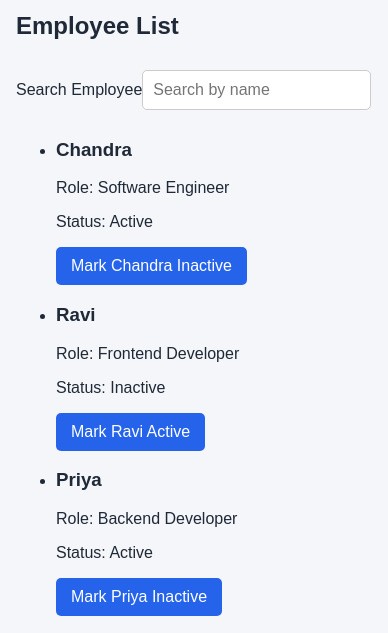
EmployeeList Component › changes employee status from Inactive to Active
This screenshot has width=388, height=633.
Step 1. Click the button "Mark Ravi Active" → (131, 432), box 56,413 -> 205,451
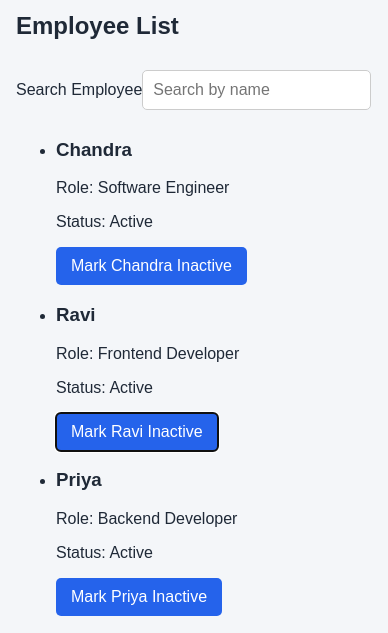
expect the text "Active" below "Frontend Developer" is shown: met, box 109,379 -> 153,396
expect the button "Mark Ravi Inactive" is shown: met, box 56,413 -> 218,451
